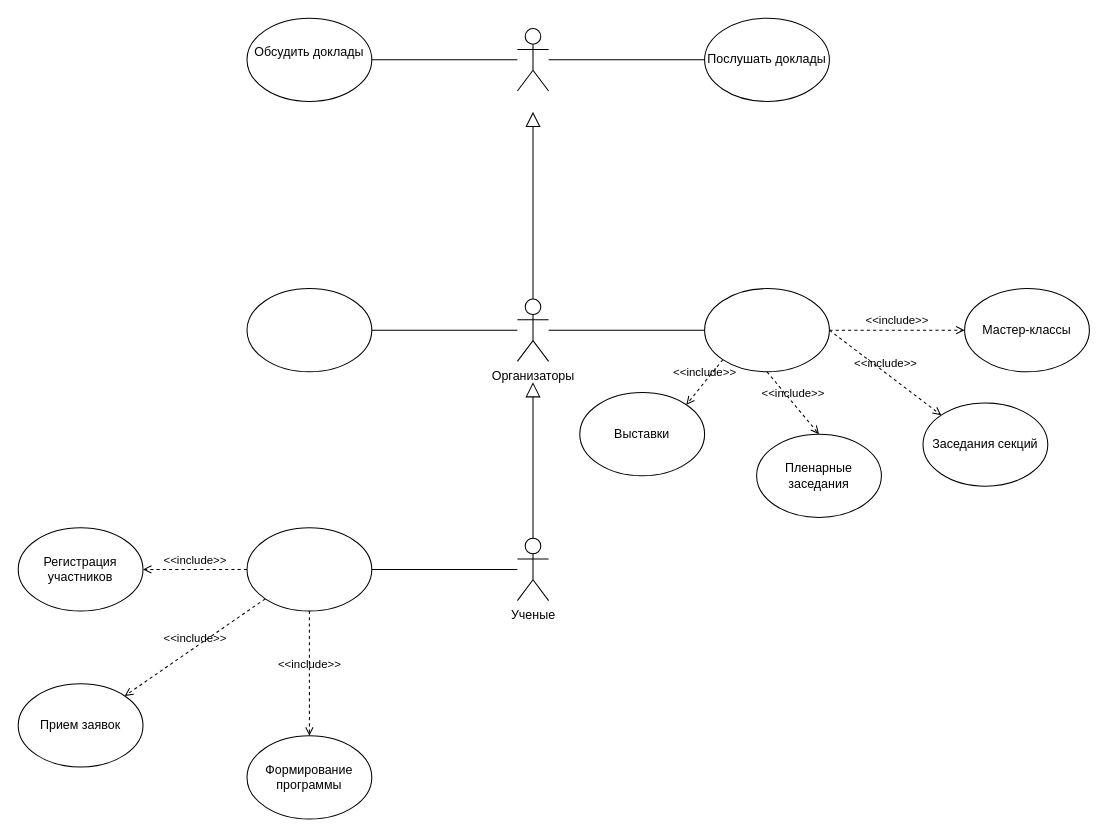
Image size: 1108x837. Some labels were removed from this diagram. Here are the shapes that lost their labels. From the top down, the centre of each, then its label:
At (532,59): "Участники".
At (309,330): "Принять заявки".
At (766,330): "Провести конференции".
At (309,569): "Подготовить доклады".
